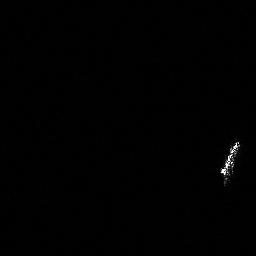ship: (217, 136, 244, 185)
